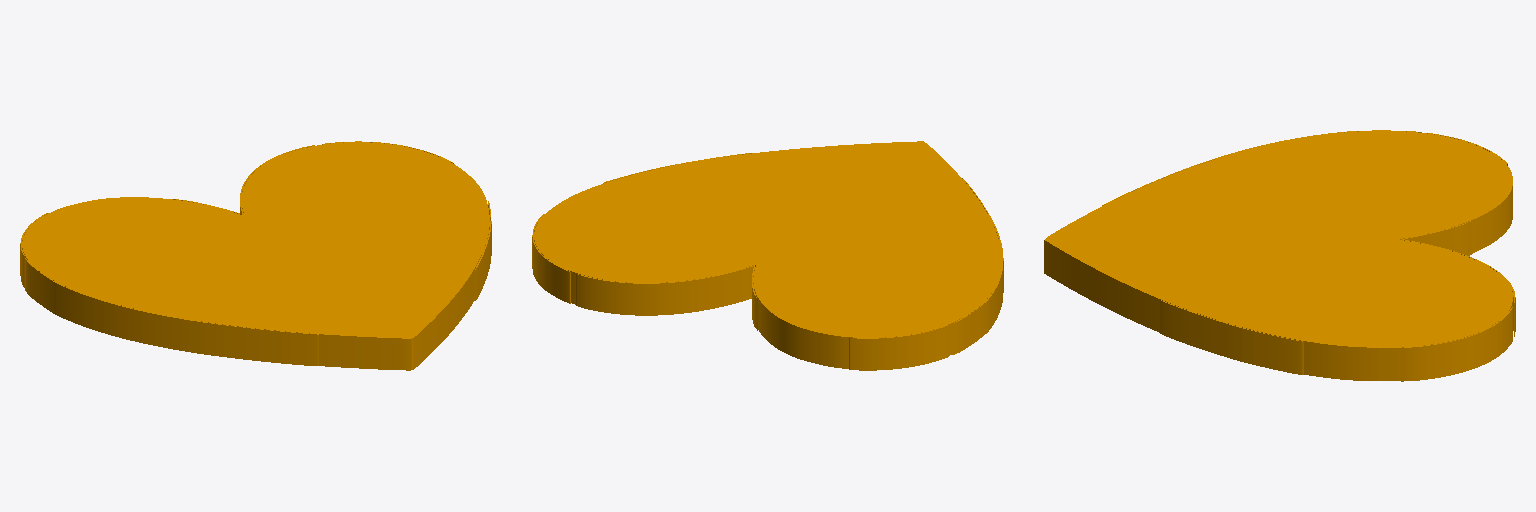
URDF robot description (i2.urdf):
<?xml version="1.0" encoding="utf-8"?>
<robot name="i2.urdf">
  <link name="baseLink">
    <contact>
      <lateral_friction value="0.5"/>
      <rolling_friction value="0.001"/>
      <spinning_friction value="0.001"/>
    </contact>
    <inertial>
      <origin rpy="0 0 0" xyz="0 0 0"/>
      <mass value="0.07"/>
      <inertia ixx="1" ixy="0" ixz="0" iyy="1" iyz="0" izz="1"/>
    </inertial>
    <visual>
      <origin rpy="0 0 0" xyz="0 0 0"/>
      <geometry>
        <mesh filename="i2.obj" scale="0.2 0.2 0.1"/> <!-- Scale x and y by 3.5, z by 1.0 -->
      </geometry>
    </visual>
    <collision>
      <origin rpy="0 0 0" xyz="0 0 0"/>
      <geometry>
        <mesh filename="i2.obj" scale="0.2 0.2 0.1"/> <!-- Scale x and y by 3.5, z by 1.0 -->
      </geometry>
    </collision>
  </link>
</robot>

--- Facts derived from the render (not from the file) ---
Views: 3 orthographic renders of the robot side by side, from view 1: azimuth 30°, elevation 25°; view 2: azimuth 150°, elevation 25°; view 3: azimuth 270°, elevation 25°.
Robot: i2.urdf — 1 links, 0 joints (none); root link baseLink; default pose: every joint at zero.
Links seen in each view (by area): view 1: baseLink; view 2: baseLink; view 3: baseLink.
Boxes of the visible links, x1,y1,x2,y2 form: baseLink: (20, 141, 491, 370); baseLink: (532, 141, 1003, 370); baseLink: (1044, 130, 1515, 381).
Size in the robot's own frame: 0.545 by 0.499 by 0.0394 metres.
1 mesh visuals loaded from 1 distinct referenced files (1 OBJ).